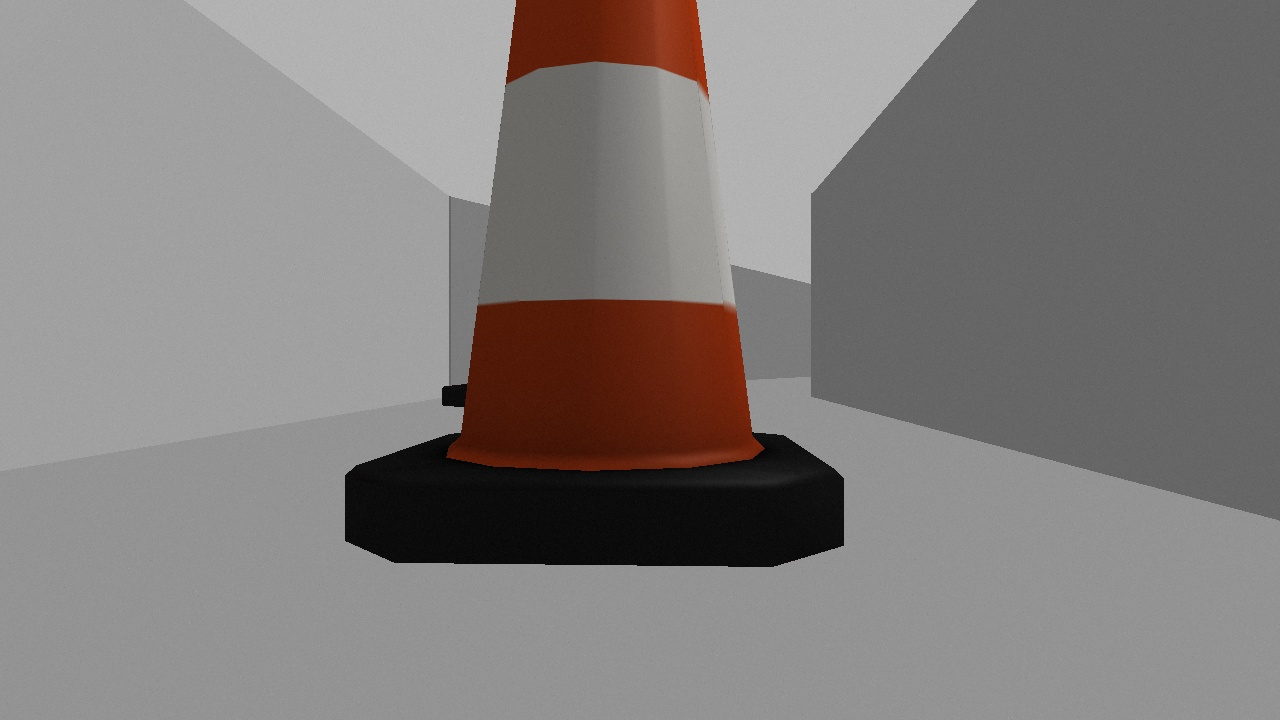barricade: (310, 1, 866, 586)
